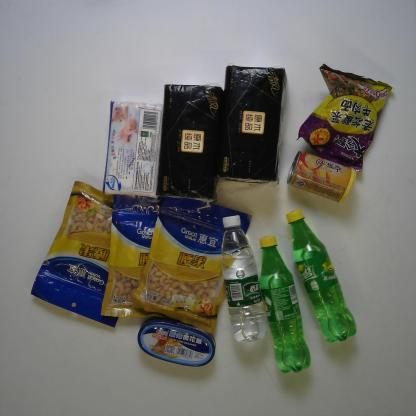Canned Food: (136, 316, 216, 367), (284, 150, 356, 204)
Dried Fruit: (130, 196, 254, 334), (29, 180, 122, 328), (99, 192, 170, 318)
Drink: (285, 209, 358, 343), (258, 233, 311, 374), (220, 214, 269, 343)
Instant Noodles: (296, 64, 395, 172)
Tissue: (211, 63, 288, 186), (157, 83, 225, 203), (102, 99, 164, 199)
